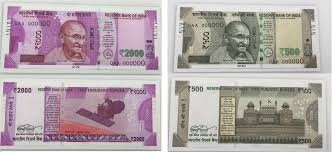twoThousand: (14, 19, 151, 60)
